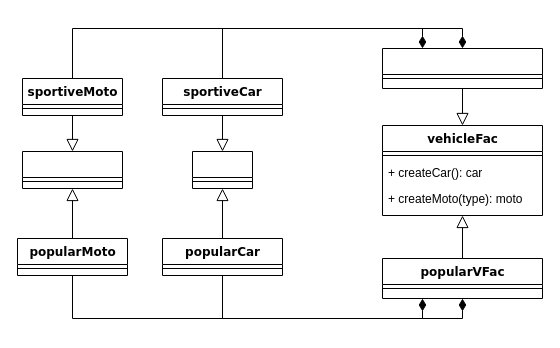
This 560x348 diagram has some shape labels left out. The box of each missing label's shape, as (x1, y1, x2, y2) in pixels:
car: (192, 150, 252, 188)
moto: (22, 150, 122, 188)
sportiveVFac: (382, 48, 542, 88)
